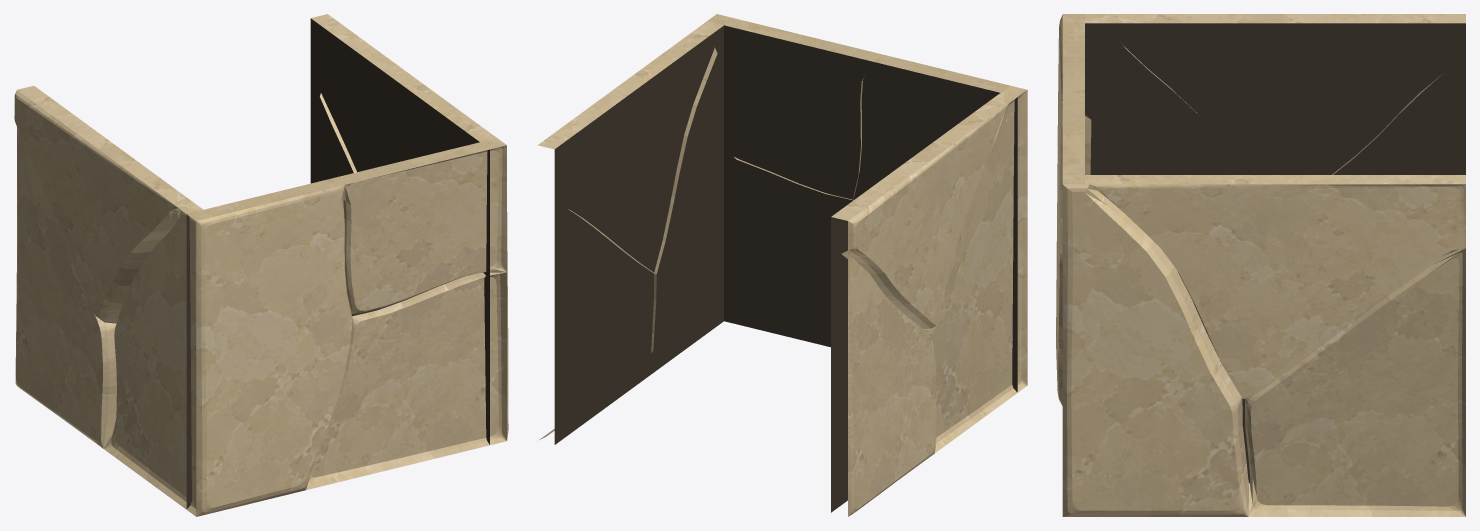
Rendered from ground_end_02.glb.
The picture shows the model from 3 angles, left to right: view 1: azimuth 30°, elevation 25°; view 2: azimuth 150°, elevation 25°; view 3: azimuth 270°, elevation 25°; orthographic projection. The views are drawn at different scales.
Visible parts, largest first — view 1: GroundEnd02_Body; view 2: GroundEnd02_Body; view 3: GroundEnd02_Body.
Boxes of the visible parts, <box> form: GroundEnd02_Body: <box>14,14,508,516</box>; GroundEnd02_Body: <box>538,14,1027,516</box>; GroundEnd02_Body: <box>1056,14,1465,516</box>.
Size of the model in its own units: 1.03 by 0.91 by 1.02.
Materials: 11 (10 with a texture image).
